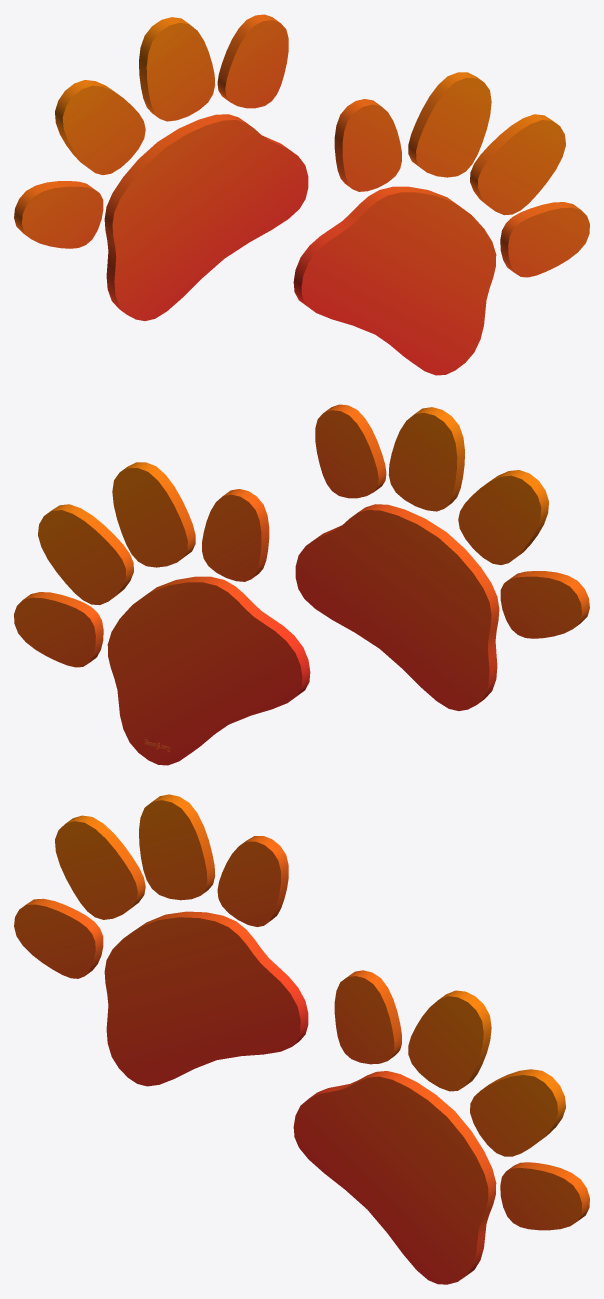
The model's file is paw_prints.glb.
3 renders of one model, top to bottom at view 1: azimuth 30°, elevation 25°; view 2: azimuth 150°, elevation 25°; view 3: azimuth 330°, elevation 25°, orthographic.
Visible parts, largest first — view 1: Plane.149; view 2: Plane.149; view 3: Plane.149.
Boxes of the visible parts, box(x1,y1,x2,y2) form: Plane.149: box(14, 14, 589, 375); Plane.149: box(14, 404, 589, 765); Plane.149: box(14, 794, 589, 1284).
Bounding box in the file's own units: 2.21 × 1.55 × 0.0541.
1 material, 1 textured.
